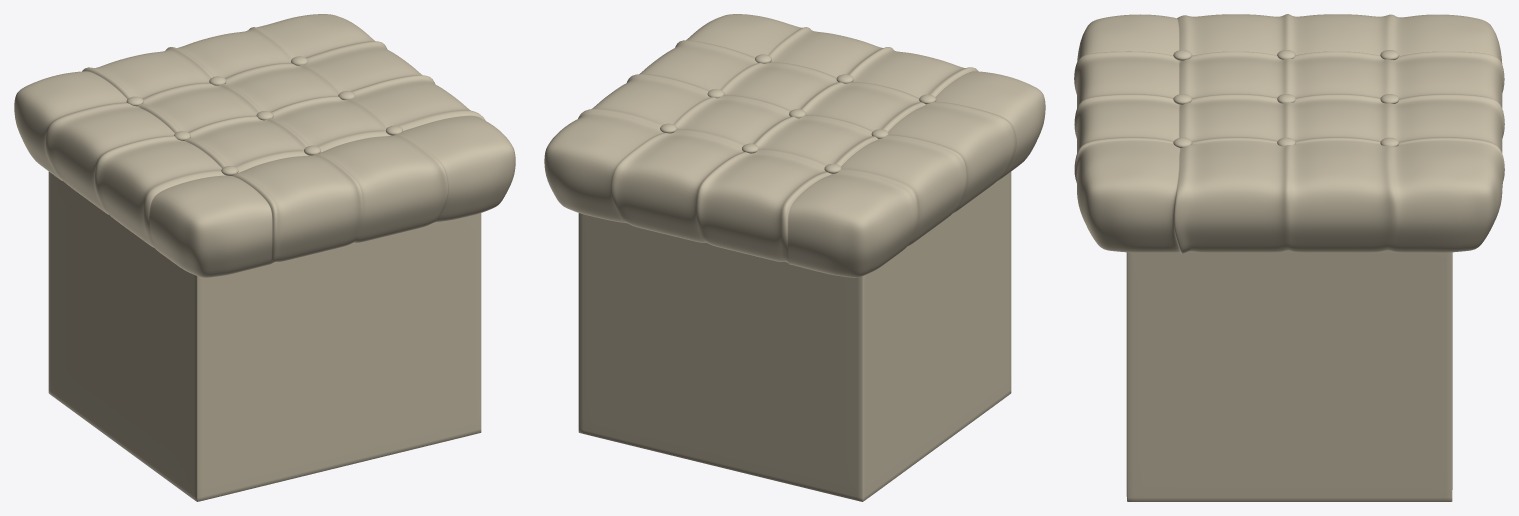
File: Pouf.fbx
3 renders of one model, left to right at view 1: azimuth 30°, elevation 25°; view 2: azimuth 150°, elevation 25°; view 3: azimuth 270°, elevation 25°, orthographic. The views are drawn at different scales.
Parts seen in each view (by area): view 1: Pouf; view 2: Pouf; view 3: Pouf.
Boxes of the visible parts, left/top/right/bottom form: Pouf: left=14, top=14, right=515, bottom=501; Pouf: left=544, top=14, right=1045, bottom=501; Pouf: left=1074, top=14, right=1504, bottom=501.
Bounding box in the file's own units: 66.15 × 56.21 × 66.
